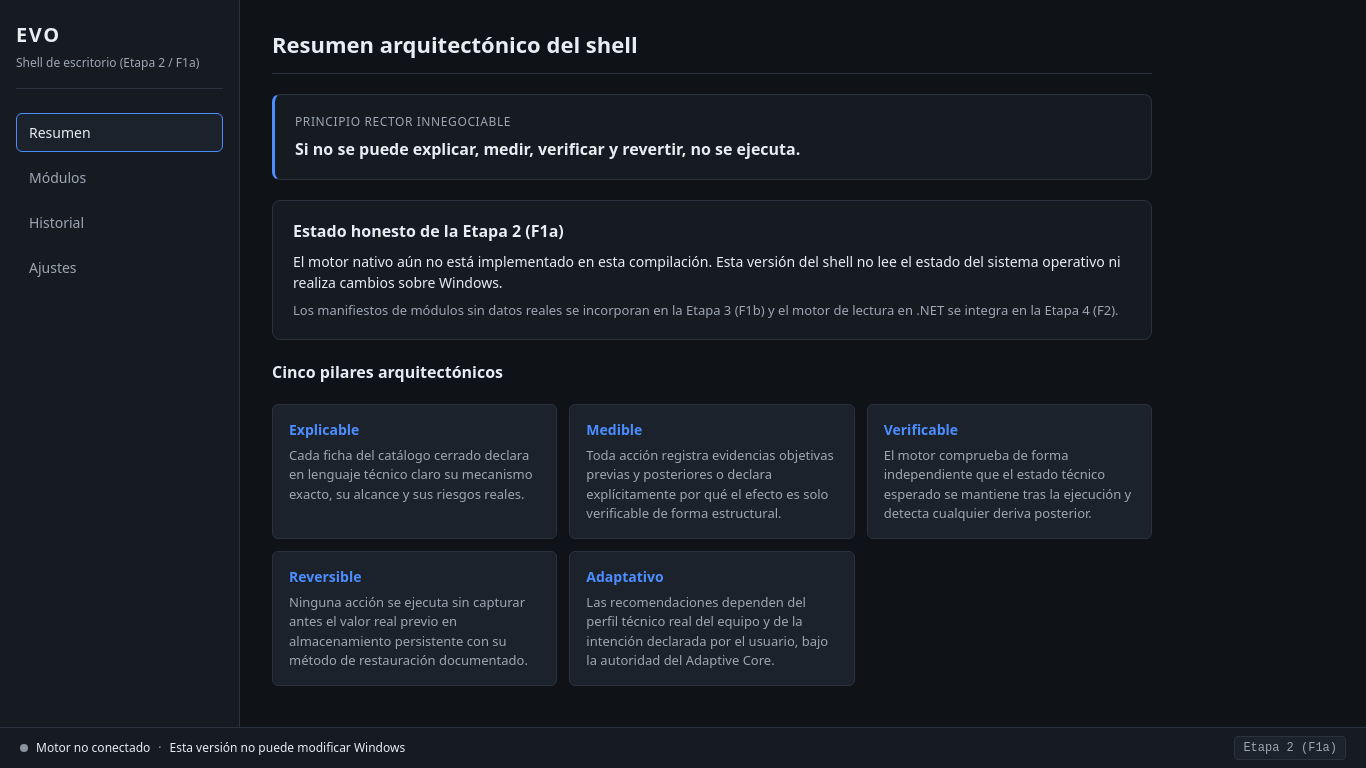
Test: EVO Desktop Shell (Etapa 2 / F1a) › cambia el idioma a inglés en /settings y actualiza la interfaz y la barra de estado
The image size is (1366, 768).
Click the link "Ajustes": (53, 268) [29,258,77,277]
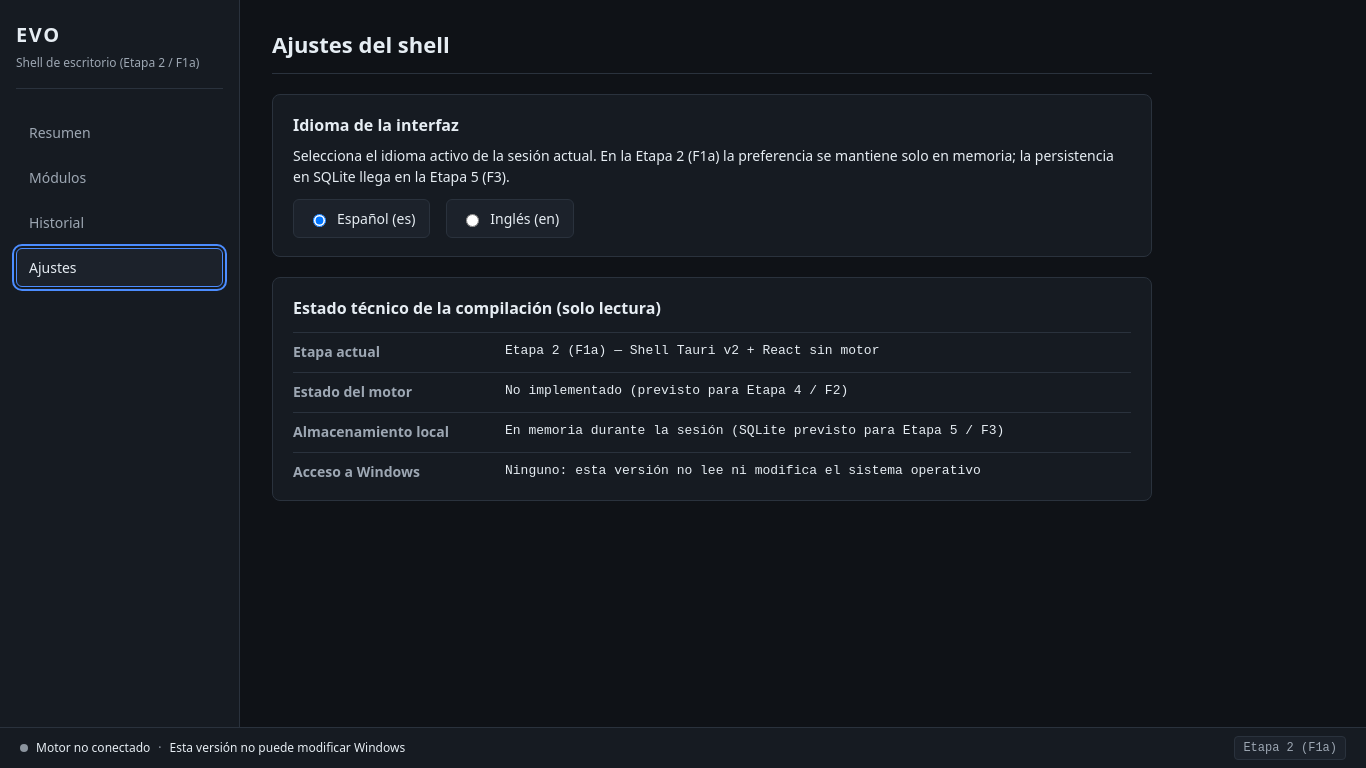
Click the radio button labelled "Inglés (en)": (473, 220) [466,214,479,226]
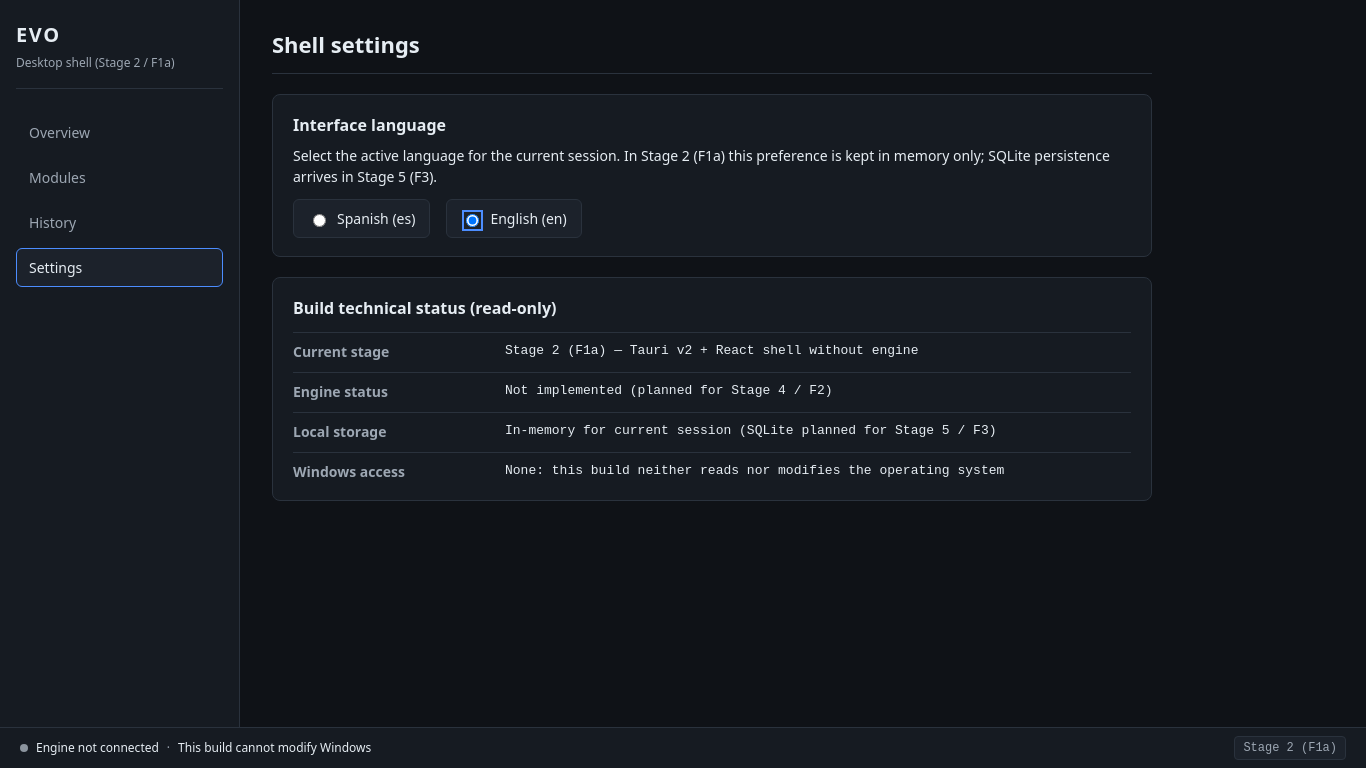
Result: the heading "Shell settings" is shown at [272,29,420,59]
Result: the text "Engine not connected" is shown at [36,739,159,757]
Result: the text "This build cannot modify Windows" is shown at [178,739,371,757]
Click the link "Overview": (60, 132) [29,123,90,142]
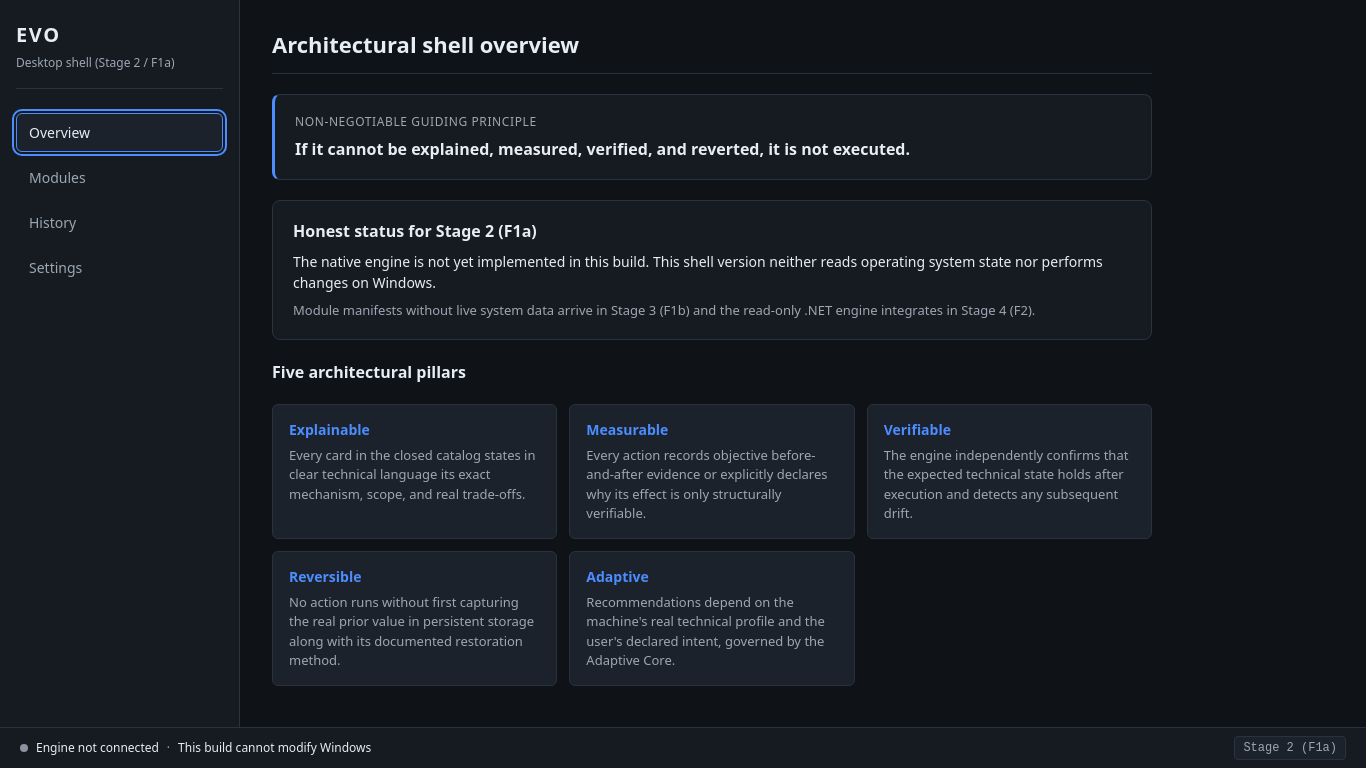
Result: the text "If it cannot be explained, measured, verified, and reverted, it is not executed." is shown at [295,138,910,160]
